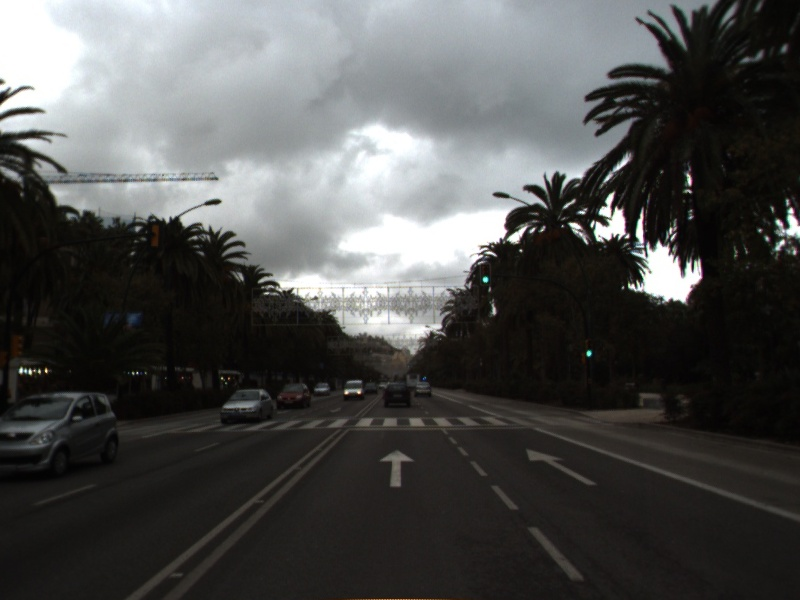STRAIGHT: (524, 447, 600, 487), (377, 447, 417, 489)
